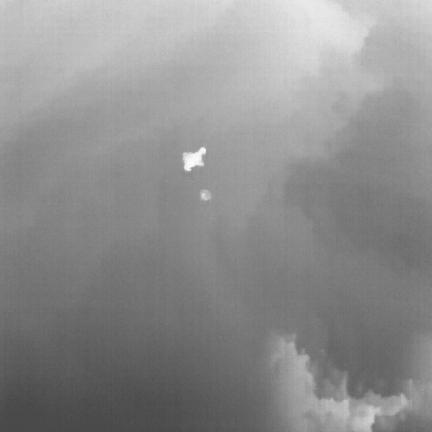flukeprints: (183, 147, 206, 170), (200, 190, 211, 201)
